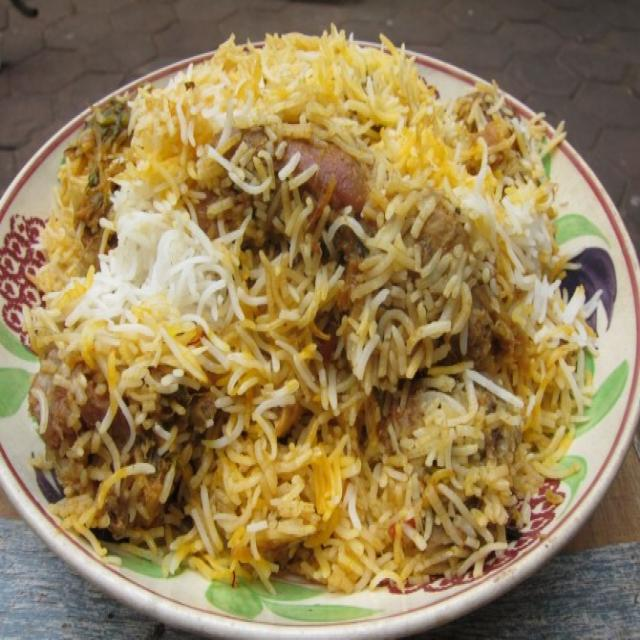Rice: (26, 24, 598, 607)
